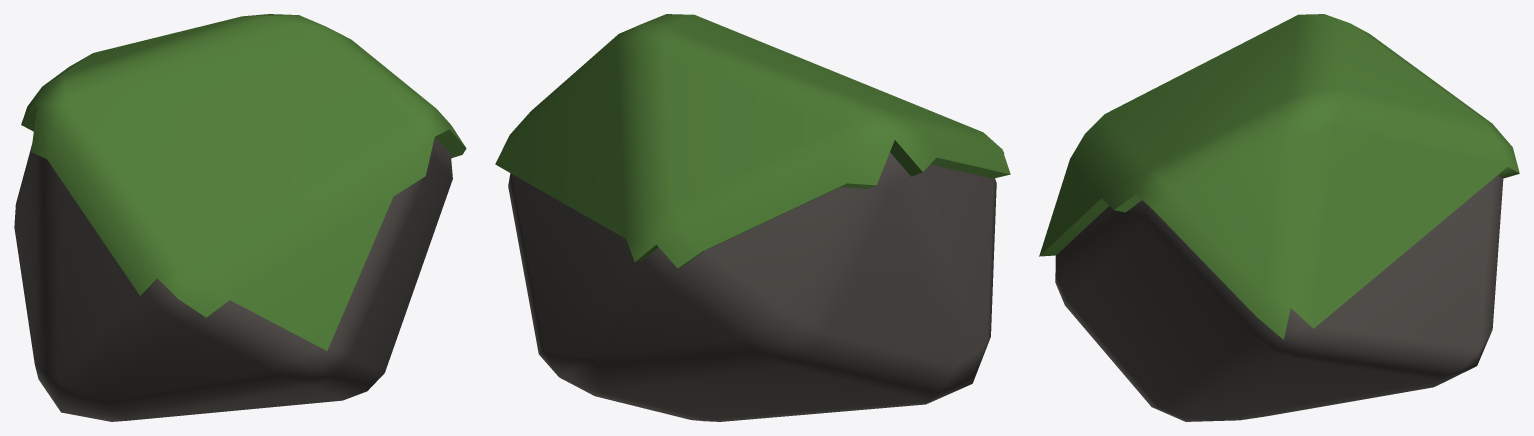
Rendered from rocher_foret_1.glb.
The picture shows the model from 3 angles, left to right: view 1: azimuth 30°, elevation 25°; view 2: azimuth 150°, elevation 25°; view 3: azimuth 270°, elevation 25°; orthographic projection. The views are drawn at different scales.
Visible parts, largest first — view 1: mousse_mousse.006, roche_pierre_sombre.010; view 2: roche_pierre_sombre.010, mousse_mousse.006; view 3: mousse_mousse.006, roche_pierre_sombre.010.
Part boxes in pixels (x1,y1,x2,y2): mousse_mousse.006: (21, 14, 466, 350); roche_pierre_sombre.010: (14, 137, 452, 421); roche_pierre_sombre.010: (508, 152, 996, 421); mousse_mousse.006: (495, 14, 1010, 268); mousse_mousse.006: (1039, 14, 1519, 339); roche_pierre_sombre.010: (1055, 175, 1503, 421).
Bounding box in the file's own units: 0.7893 × 0.5769 × 0.7644.
